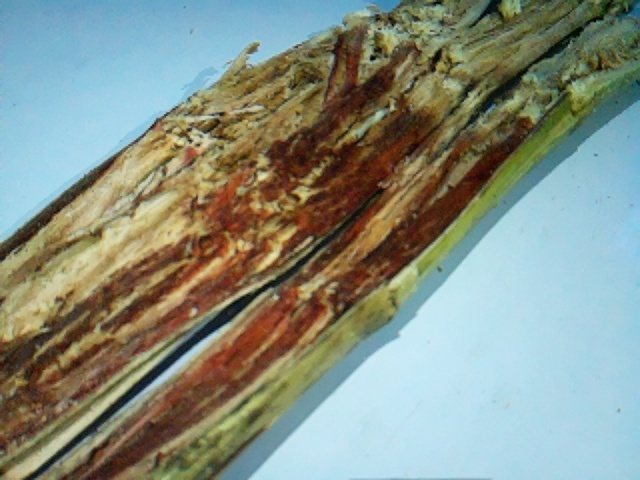Red-Rot: (0, 31, 601, 480)
